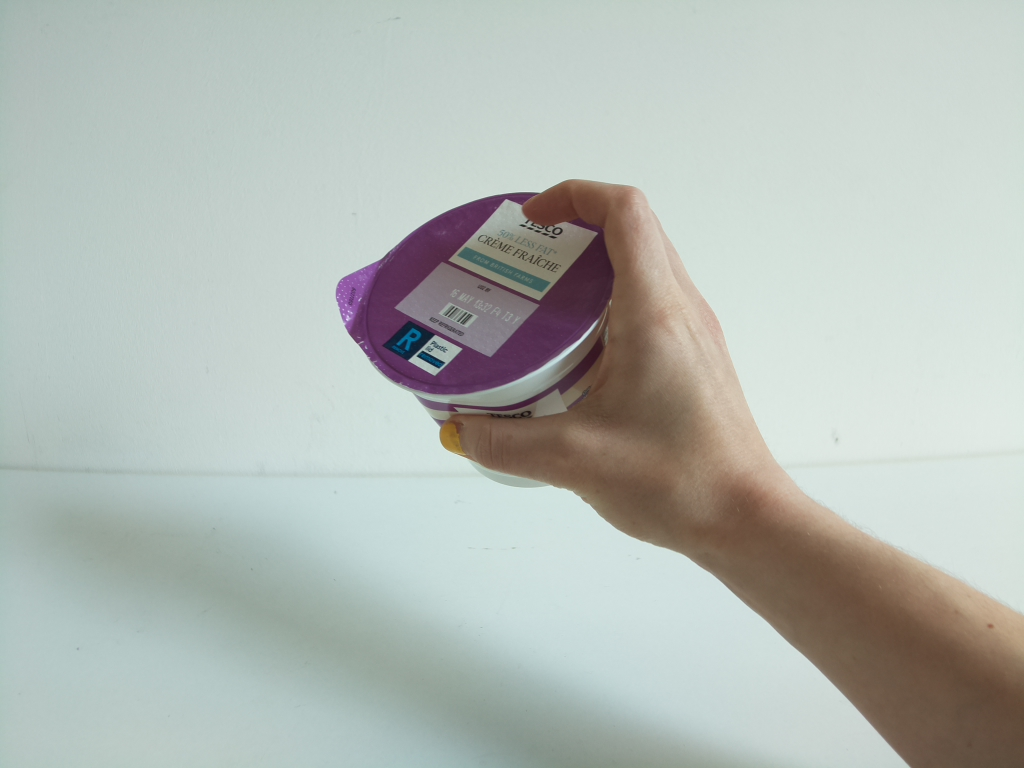cream: (331, 191, 617, 491)
